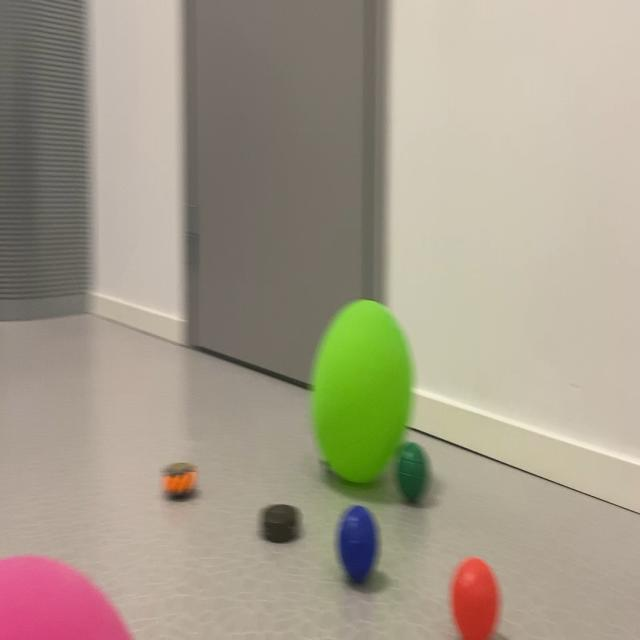7: (436, 546, 508, 640), (327, 494, 382, 600)
red ball: (397, 430, 436, 530)
